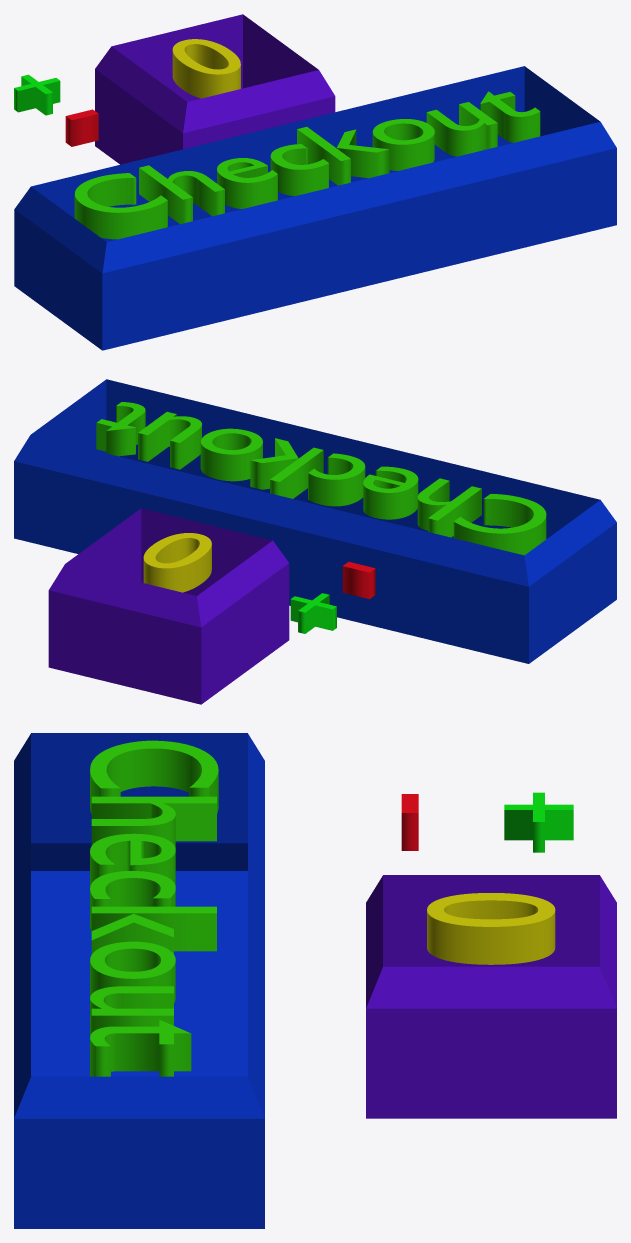
File: finalize.fbx
3 views of the same model, one above another, from view 1: azimuth 30°, elevation 25°; view 2: azimuth 150°, elevation 25°; view 3: azimuth 270°, elevation 25° (orthographic). The views are drawn at different scales.
Visible parts, largest first — view 1: Cube.001, Text.003, Cube, Text.002, Text, Text.001; view 2: Cube.001, Cube, Text.003, Text.002, Text, Text.001; view 3: Cube.001, Cube, Text.003, Text.002, Text, Text.001.
Part boxes in pixels (<box>): Cube.001: <box>14,66,616,350</box>; Text.003: <box>74,91,540,239</box>; Cube: <box>95,14,335,164</box>; Text.002: <box>172,39,240,98</box>; Text: <box>14,74,60,115</box>; Text.001: <box>65,109,98,146</box>; Cube.001: <box>14,379,616,663</box>; Cube: <box>48,508,289,704</box>; Text.003: <box>96,402,546,555</box>; Text.002: <box>143,533,211,592</box>; Text: <box>290,593,336,633</box>; Text.001: <box>342,561,375,599</box>; Cube.001: <box>14,733,264,1228</box>; Cube: <box>366,875,616,1118</box>; Text.003: <box>90,740,218,1076</box>; Text.002: <box>427,893,555,964</box>; Text: <box>504,792,573,852</box>; Text.001: <box>401,794,418,850</box>.
Bounding box in the file's own units: 575 × 112 × 409.
